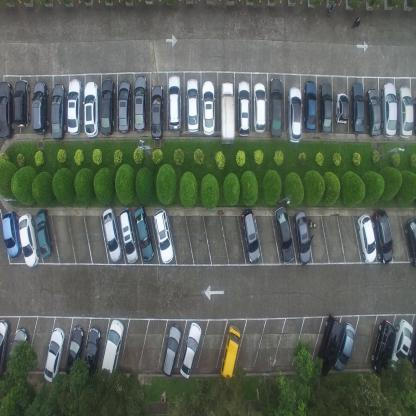car: (316, 314, 344, 378), (100, 318, 124, 378), (390, 318, 414, 374), (372, 321, 396, 376), (43, 327, 65, 384), (5, 326, 29, 378), (18, 211, 40, 267), (180, 322, 202, 378), (220, 324, 242, 379), (152, 208, 173, 265), (118, 206, 139, 263), (274, 205, 294, 264), (133, 205, 154, 261), (102, 206, 123, 262), (372, 209, 393, 265), (161, 322, 182, 378), (240, 207, 260, 262), (356, 212, 377, 263), (218, 79, 234, 145), (334, 325, 356, 373), (34, 208, 54, 260), (1, 210, 22, 259), (82, 325, 102, 376), (50, 82, 67, 140), (294, 209, 311, 266), (268, 76, 283, 140), (381, 82, 398, 138), (66, 324, 84, 376), (67, 78, 83, 136), (286, 86, 302, 144), (200, 80, 216, 136), (32, 79, 48, 135), (0, 79, 14, 143), (398, 84, 414, 139), (100, 78, 115, 136), (84, 82, 99, 138), (318, 79, 333, 135), (365, 87, 381, 138), (14, 77, 30, 128), (133, 75, 147, 133), (168, 75, 182, 132), (236, 80, 250, 137), (150, 83, 164, 140), (302, 79, 317, 132), (117, 79, 131, 135), (186, 78, 200, 133), (350, 81, 364, 134), (0, 318, 12, 379), (253, 82, 265, 134), (405, 214, 415, 268), (335, 91, 349, 125)
